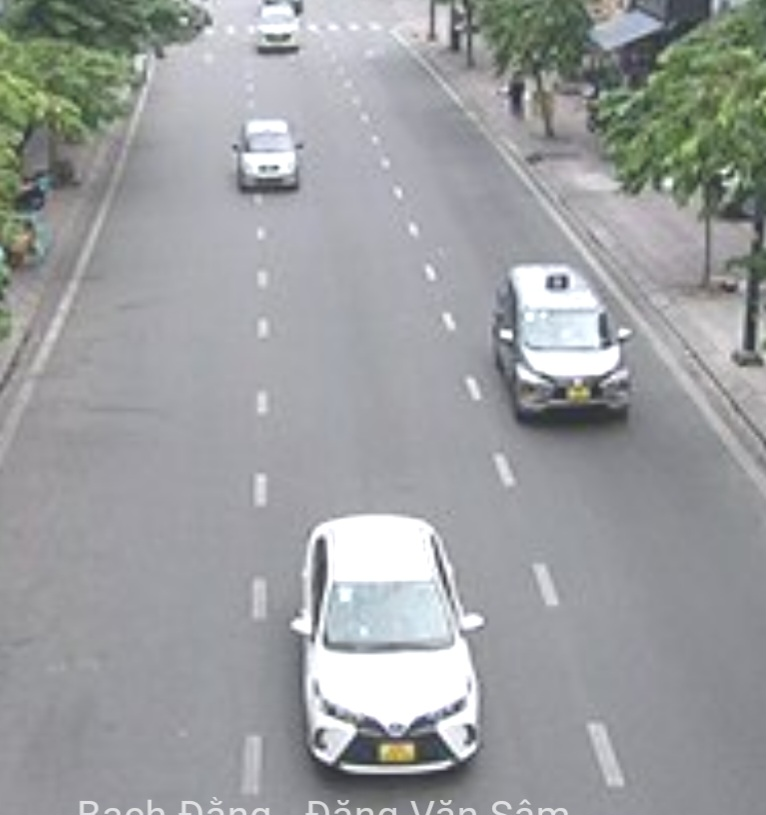car: (297, 511, 480, 777), (495, 262, 630, 420), (234, 120, 303, 194), (256, 6, 300, 52)
